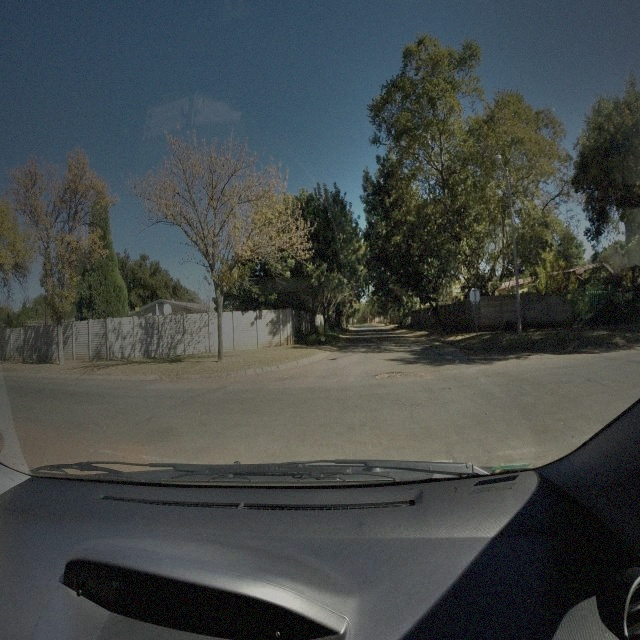pothole: (372, 371, 417, 380)
